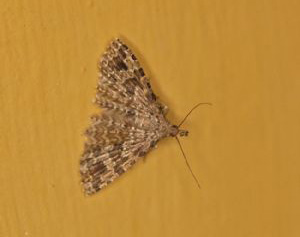Alucitidae: (75, 31, 209, 200)
moth: (77, 33, 211, 202)
